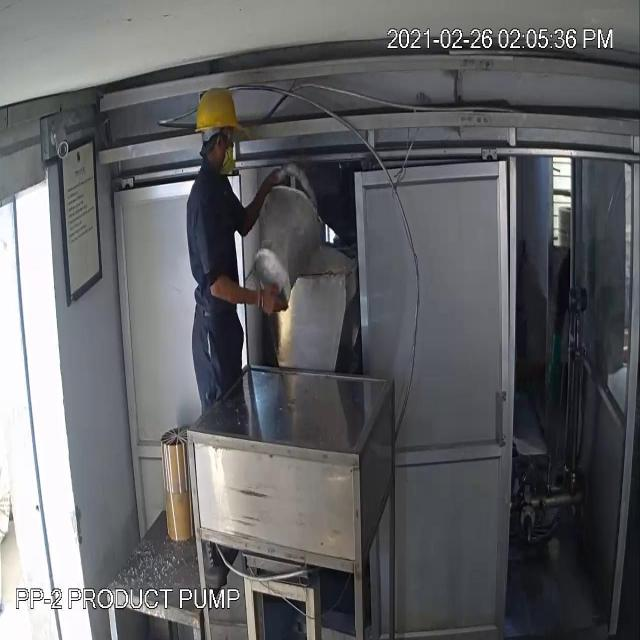helmet: (185, 75, 243, 142)
